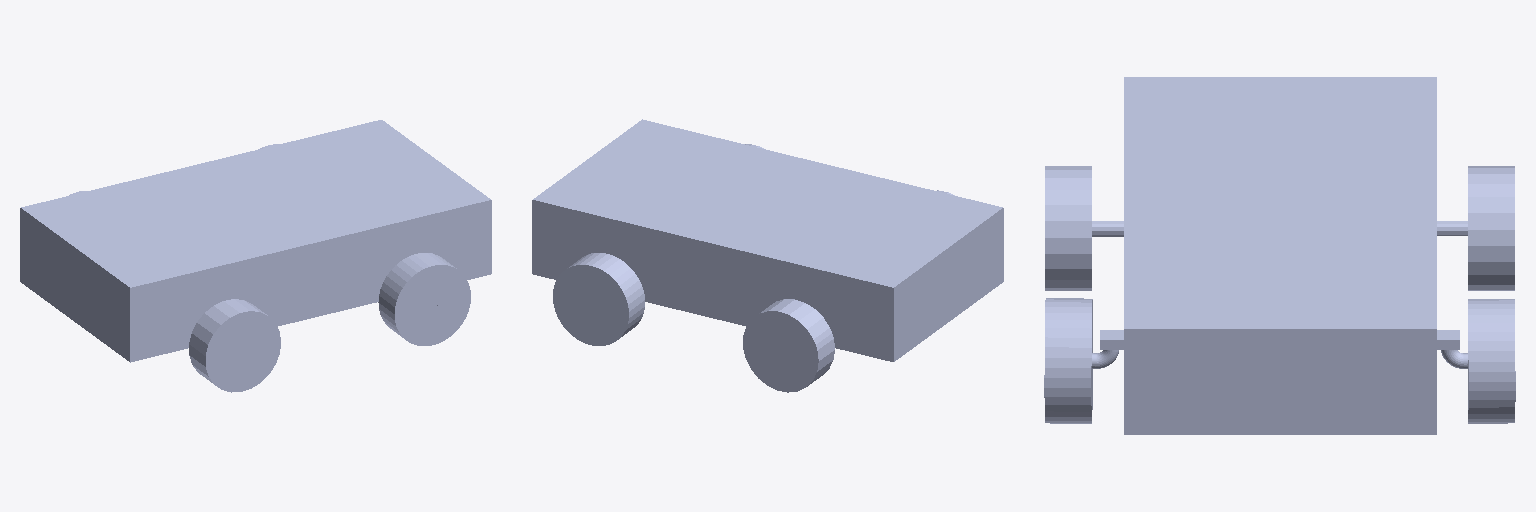
The robot description file, URDF, robot "mini_robot":
<?xml version="1.0" encoding="utf-8"?>
<!-- This URDF was automatically created by SolidWorks to URDF Exporter! Originally created by [author] ([email redacted]) 
     Commit Version: 1.6.0-1-g15f4949  Build Version: 1.6.7594.29634
     For more information, please see http://wiki.ros.org/sw_urdf_exporter -->
<robot
  name="mini_robot">
  <!--transmission name="dummy_trans">
    <type>transmission_interface/SimpleTransmission</type>
    <joint name="dummy_joint">
      <hardwareInterface>EffortJointInterface</hardwareInterface>
    </joint>
    <actuator name="dummy_motor">
      <mechanicalReduction>50</mechanicalReduction>
      <hardwareInterface>EffortJointInterface</hardwareInterface>
    </actuator>
  </transmission-->
  <transmission name="Rear_trans">
    <type>transmission_interface/SimpleTransmission</type>
    <joint name="rear_drive_joint">
      <hardwareInterface>hardware_interface/VelocityJointInterface</hardwareInterface>
    </joint>
    <actuator name="rear_motor">
      <mechanicalReduction>50</mechanicalReduction>
      <hardwareInterface>hardware_interface/VelocityJointInterface</hardwareInterface>
    </actuator>
  </transmission>
  <transmission name="left_front_steer_trans">
    <type>transmission_interface/SimpleTransmission</type>
    <joint name="left_front_steer_joint">
      <hardwareInterface>hardware_interface/PositionJointInterface</hardwareInterface>
    </joint>
    <actuator name="left_front_steer_motor">
      <mechanicalReduction>50</mechanicalReduction>
      <hardwareInterface>hardware_interface/PositionJointInterface</hardwareInterface>
    </actuator>
  </transmission>
  <transmission name="right_front_steer_trans">
    <type>transmission_interface/SimpleTransmission</type>
    <joint name="right_front_steer_joint">
      <hardwareInterface>hardware_interface/PositionJointInterface</hardwareInterface>
    </joint>
    <actuator name="left_front_steer_motor">
      <mechanicalReduction>50</mechanicalReduction>
      <hardwareInterface>hardware_interface/PositionJointInterface</hardwareInterface>
    </actuator>
  </transmission>
  <transmission name="left_wheel_trans">
    <type>transmission_interface/SimpleTransmission</type>
    <joint name="left_wheel_joint">
      <hardwareInterface>hardware_interface/VelocityJointInterface</hardwareInterface>
    </joint>
    <actuator name="left_wheel_motor">
      <mechanicalReduction>50</mechanicalReduction>
      <hardwareInterface>hardware_interface/VelocityJointInterface</hardwareInterface>
    </actuator>
  </transmission>
  <transmission name="right_wheel_trans">
    <type>transmission_interface/SimpleTransmission</type>
      <joint name="right_wheel_joint">
      <hardwareInterface>hardware_interface/VelocityJointInterface</hardwareInterface>
    </joint>
    <actuator name="right_wheel_motor">
      <mechanicalReduction>50</mechanicalReduction>
      <hardwareInterface>hardware_interface/VelocityJointInterface</hardwareInterface>
    </actuator>
  </transmission>
  <link
    name="dummy_link">
  </link>
  <joint
    name="dummy_joint"
    type="fixed">
    <parent
      link="dummy_link"/>
    <child
      link="chassis"/>
  </joint>
  

  <link
    name="chassis">
    <inertial>
      <origin
        xyz="0.000799761683914332 0.0954306825939049 -9.30796864283394E-18"
        rpy="0 0 0" />
      <mass
        value="93.1848581866648" />
      <inertia
        ixx="2.28713334560461"
        ixy="0.00487069017117028"
        ixz="9.01317708382456E-17"
        iyy="9.24306451040249"
        iyz="-8.15739421984855E-18"
        izz="7.51842340533568" />
    </inertial>
    <visual>
      <origin
        xyz="0 0 0"
        rpy="0 0 0" />
      <geometry>
        <mesh
          filename="package://mini_robot/meshes/chassis.STL" />
      </geometry>
      <material
        name="">
        <color
          rgba="0.792156862745098 0.819607843137255 0.933333333333333 1" />
      </material>
    </visual>
    <collision>
      <origin
        xyz="0 0 0"
        rpy="0 0 0" />
      <geometry>
        <mesh
          filename="package://mini_robot/meshes/chassis.STL" />
      </geometry>
    </collision>
  </link>
  <link
    name="rear_drive">
    <inertial>
      <origin
        xyz="0 0 3.17493310854711E-16"
        rpy="0 0 0" />
      <mass
        value="5.25111094738319" />
      <inertia
        ixx="0.605832013171467"
        ixy="0"
        ixz="3.64001219073864E-17"
        iyy="0.605832013171467"
        iyz="-6.48332655293154E-18"
        izz="0.0255331022594418" />
    </inertial>
    <visual>
      <origin
        xyz="0 0 0"
        rpy="0 0 0" />
      <geometry>
        <mesh
          filename="package://mini_robot/meshes/rear_drive.STL" />
      </geometry>
      <material
        name="">
        <color
          rgba="0.792156862745098 0.819607843137255 0.933333333333333 1" />
      </material>
    </visual>
    <collision>
      <origin
        xyz="0 0 0"
        rpy="0 0 0" />
      <geometry>
        <mesh
          filename="package://mini_robot/meshes/rear_drive.STL" />
      </geometry>
    </collision>
  </link>
  <joint
    name="rear_drive_joint"
    type="continuous">
    <origin
      xyz="-0.254 0 0.0254"
      rpy="-1.5708 -0.39418 3.1416" />
    <parent
      link="chassis" />
    <child
      link="rear_drive" />
    <axis
      xyz="0 0 1" />
  </joint>
  <link
    name="left_front_steer">
    <inertial>
      <origin
        xyz="-5.55111512312578E-17 0.0206107556410369 0.0402758603427741"
        rpy="0 0 0" />
      <mass
        value="0.0733713578442024" />
      <inertia
        ixx="0.000110146477694354"
        ixy="-1.17261123635517E-20"
        ixz="5.46071553183007E-20"
        iyy="9.72440317091055E-05"
        iyz="2.30486601099536E-05"
        izz="1.88194791385947E-05" />
    </inertial>
    <visual>
      <origin
        xyz="0 0 0"
        rpy="0 0 0" />
      <geometry>
        <mesh
          filename="package://mini_robot/meshes/left_front_steer.STL" />
      </geometry>
      <material
        name="">
        <color
          rgba="0.792156862745098 0.819607843137255 0.933333333333333 1" />
      </material>
    </visual>
    <collision>
      <origin
        xyz="0 0 0"
        rpy="0 0 0" />
      <geometry>
        <mesh
          filename="package://mini_robot/meshes/left_front_steer.STL" />
      </geometry>
    </collision>
  </link>
  <joint
    name="left_front_steer_joint"
    type="revolute">
    <origin
      xyz="0.254 0.27305 0.012573"
      rpy="1.5708 0 -3.1333" />
    <parent
      link="chassis" />
    <child
      link="left_front_steer" />
    <axis
      xyz="0 1 0" />
    <limit
      lower="-0.436"
      upper="0.436"
      effort="100"
      velocity="100" />
  </joint>
  <link
    name="left_wheel">
    <inertial>
      <origin
        xyz="-7.7715611723761E-16 -5.55111512312578E-17 -0.0398936415413802"
        rpy="0 0 0" />
      <mass
        value="2.43249992415545" />
      <inertia
        ixx="0.00755250482076538"
        ixy="9.41827845452877E-20"
        ixz="4.68239813242177E-18"
        iyy="0.00755250482076538"
        iyz="-1.39633381354871E-18"
        izz="0.0127509821649286" />
    </inertial>
    <visual>
      <origin
        xyz="0 0 0"
        rpy="0 0 0" />
      <geometry>
        <mesh
          filename="package://mini_robot/meshes/left_wheel.STL" />
      </geometry>
      <material
        name="">
        <color
          rgba="0.792156862745098 0.819607843137255 0.933333333333333 1" />
      </material>
    </visual>
    <collision>
      <origin
        xyz="0 0 0"
        rpy="0 0 0" />
      <geometry>
        <mesh
          filename="package://mini_robot/meshes/left_wheel.STL" />
      </geometry>
    </collision>
  </link>
  <joint
    name="left_wheel_joint"
    type="continuous">
    <origin
      xyz="0 0.0127 0.029956"
      rpy="3.1416 0 0.067904" />
    <parent
      link="left_front_steer" />
    <child
      link="left_wheel" />
    <axis
      xyz="0 0 1" />
  </joint>
  <link
    name="right_front_steer">
    <inertial>
      <origin
        xyz="5.55111512312578E-17 0.0206107556410369 0.040275860342774"
        rpy="0 0 0" />
      <mass
        value="0.0733713578442023" />
      <inertia
        ixx="0.000110146477694354"
        ixy="2.64168400424935E-20"
        ixz="-9.43647642800494E-20"
        iyy="9.72440317091055E-05"
        iyz="2.30486601099536E-05"
        izz="1.88194791385947E-05" />
    </inertial>
    <visual>
      <origin
        xyz="0 0 0"
        rpy="0 0 0" />
      <geometry>
        <mesh
          filename="package://mini_robot/meshes/right_front_steer.STL" />
      </geometry>
      <material
        name="">
        <color
          rgba="0.792156862745098 0.819607843137255 0.933333333333333 1" />
      </material>
    </visual>
    <collision>
      <origin
        xyz="0 0 0"
        rpy="0 0 0" />
      <geometry>
        <mesh
          filename="package://mini_robot/meshes/right_front_steer.STL" />
      </geometry>
    </collision>
  </link>
  <joint
    name="right_front_steer_joint"
    type="revolute">
    <origin
      xyz="0.254 -0.27305 0.012573"
      rpy="1.5708 0 -0.013511" />
    <parent
      link="chassis" />
    <child
      link="right_front_steer" />
    <axis
      xyz="0 1 0" />
    <limit
      lower="-0.436"
      upper="0.436"
      effort="100"
      velocity="100" />
  </joint>
  <link
    name="right_wheel">
    <inertial>
      <origin
        xyz="5.3776427755281E-17 2.77555756156289E-16 0.0380860906074777"
        rpy="0 0 0" />
      <mass
        value="2.43249992415545" />
      <inertia
        ixx="0.00755250482076537"
        ixy="-3.68326983157612E-20"
        ixz="3.17044432157285E-18"
        iyy="0.00755250482076536"
        iyz="-5.19739416435239E-18"
        izz="0.0127509821649285" />
    </inertial>
    <visual>
      <origin
        xyz="0 0 0"
        rpy="0 0 0" />
      <geometry>
        <mesh
          filename="package://mini_robot/meshes/right_wheel.STL" />
      </geometry>
      <material
        name="">
        <color
          rgba="0.792156862745098 0.819607843137255 0.933333333333333 1" />
      </material>
    </visual>
    <collision>
      <origin
        xyz="0 0 0"
        rpy="0 0 0" />
      <geometry>
        <mesh
          filename="package://mini_robot/meshes/right_wheel.STL" />
      </geometry>
    </collision>
  </link>
  <joint
    name="right_wheel_joint"
    type="continuous">
    <origin
      xyz="0 0.0127 0.031764"
      rpy="0 0 1.6459" />
    <parent
      link="right_front_steer" />
    <child
      link="right_wheel" />
    <axis
      xyz="0 0 1" />
  </joint>
</robot>

--- Facts derived from the render (not from the file) ---
3 views of the same robot in one strip: view 1: azimuth 30°, elevation 25°; view 2: azimuth 150°, elevation 25°; view 3: azimuth 270°, elevation 25° (orthographic).
Model mini_robot with 7 links and 6 joints (2 revolute, 3 continuous, 1 fixed), rooted at dummy_link, posed every joint at zero.
Links seen in each view (by area): view 1: chassis, rear_drive, right_wheel; view 2: chassis, rear_drive, left_wheel; view 3: chassis, rear_drive, right_wheel, left_wheel.
Boxes of the visible links, left/top/right/bottom form: chassis: left=20, top=120, right=491, bottom=362; rear_drive: left=69, top=191, right=280, bottom=392; right_wheel: left=378, top=253, right=470, bottom=345; chassis: left=532, top=119, right=1003, bottom=361; rear_drive: left=743, top=190, right=954, bottom=392; left_wheel: left=553, top=253, right=644, bottom=345; chassis: left=1100, top=77, right=1459, bottom=434; rear_drive: left=1045, top=166, right=1514, bottom=290; right_wheel: left=1044, top=298, right=1092, bottom=423; left_wheel: left=1468, top=299, right=1515, bottom=423.
Size in the robot's own frame: 0.9652 by 0.7642 by 0.2668 metres.
6 mesh visuals loaded from 6 distinct referenced files (6 binary STL).
